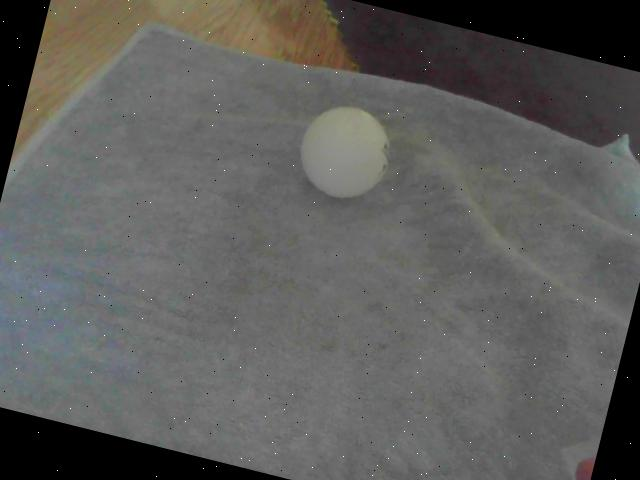ball: (291, 98, 398, 207)
